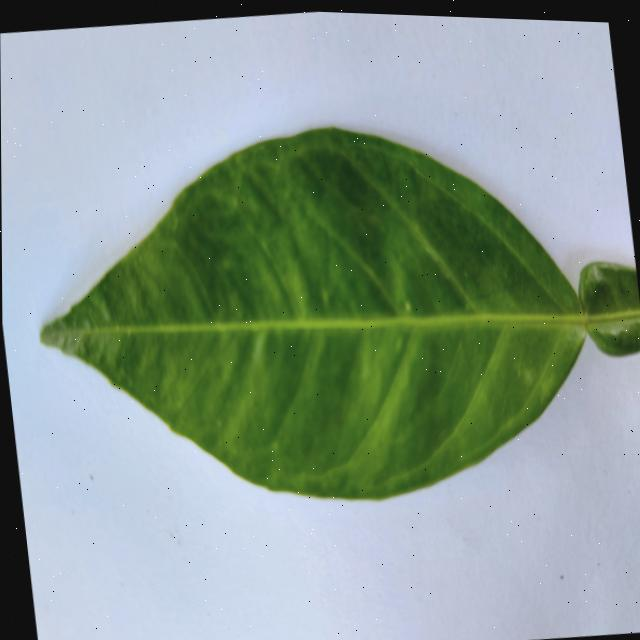greening: (39, 128, 583, 497)
